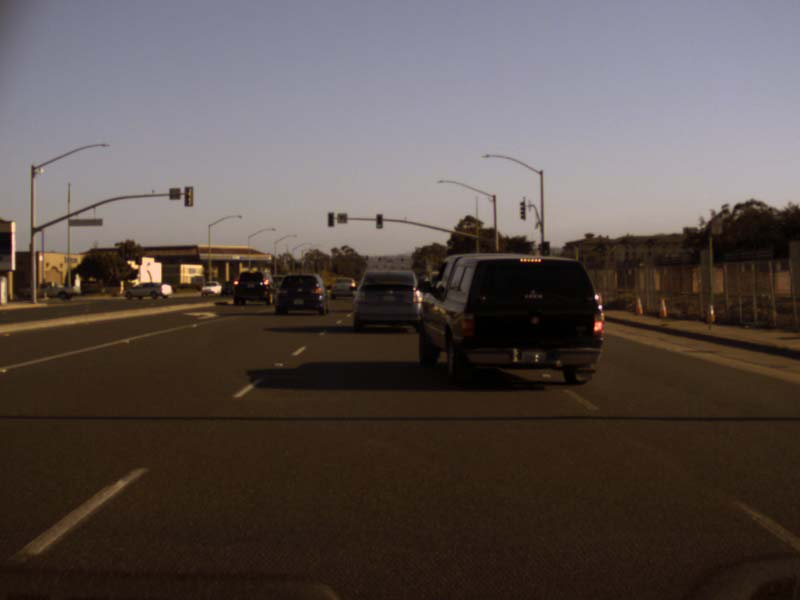Green: (375, 213, 382, 228), (542, 242, 548, 254)
Red: (326, 211, 334, 227)
